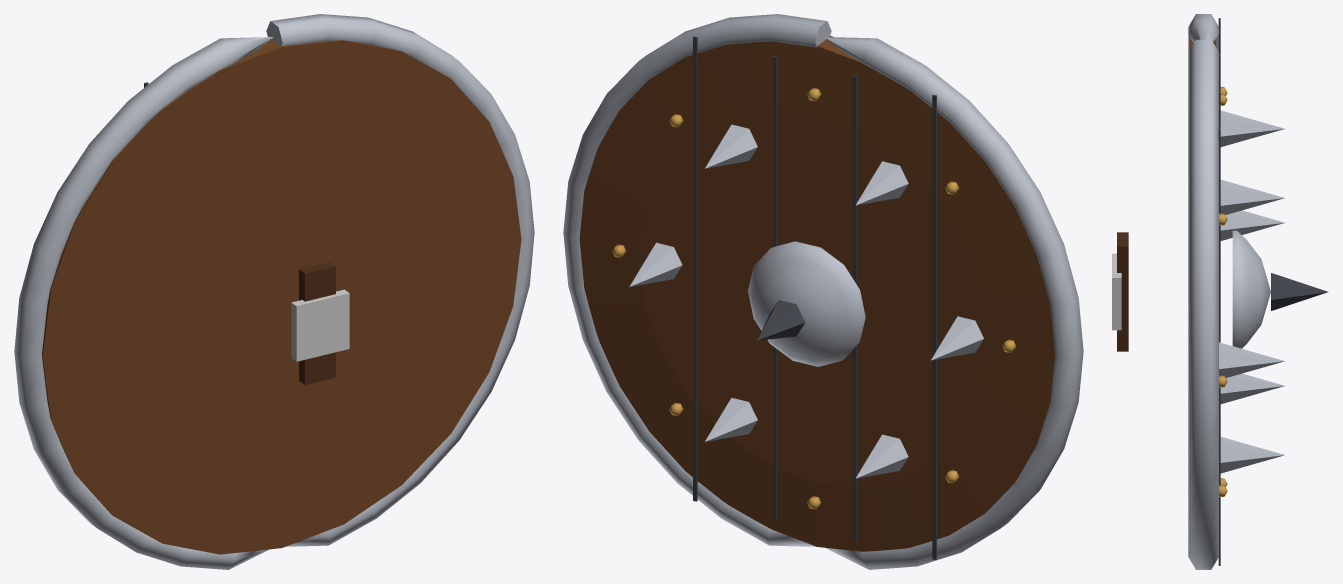
File: shield_spiked.glb
3 renders of one model, left to right at view 1: azimuth 30°, elevation 25°; view 2: azimuth 150°, elevation 25°; view 3: azimuth 270°, elevation 25°, orthographic. The views are drawn at different scales.
Parts seen in each view (by area): view 1: Shield_Spiked_Wood, Shield_Spiked_Steel, Shield_Spiked_Trim, Shield_Spiked_Leather; view 2: Shield_Spiked_Wood, Shield_Spiked_Steel, Shield_Spiked_Darksteel, Shield_Spiked_Brass; view 3: Shield_Spiked_Steel, Shield_Spiked_Darksteel, Shield_Spiked_Leather, Shield_Spiked_Trim, Shield_Spiked_Brass.
Boxes of the visible parts, bbox=[...] form: Shield_Spiked_Wood: bbox=[42, 39, 521, 554]; Shield_Spiked_Steel: bbox=[14, 14, 534, 569]; Shield_Spiked_Trim: bbox=[291, 289, 349, 361]; Shield_Spiked_Leather: bbox=[299, 262, 335, 384]; Shield_Spiked_Wood: bbox=[579, 36, 1054, 551]; Shield_Spiked_Steel: bbox=[563, 14, 1083, 569]; Shield_Spiked_Darksteel: bbox=[693, 36, 936, 559]; Shield_Spiked_Brass: bbox=[612, 88, 1016, 509]; Shield_Spiked_Steel: bbox=[1188, 14, 1284, 569]; Shield_Spiked_Darksteel: bbox=[1218, 18, 1327, 565]; Shield_Spiked_Leather: bbox=[1117, 232, 1128, 351]; Shield_Spiked_Trim: bbox=[1112, 253, 1121, 330]; Shield_Spiked_Brass: bbox=[1219, 87, 1227, 496].
Size of the model in its own units: 0.5777 by 0.5722 by 0.225.
